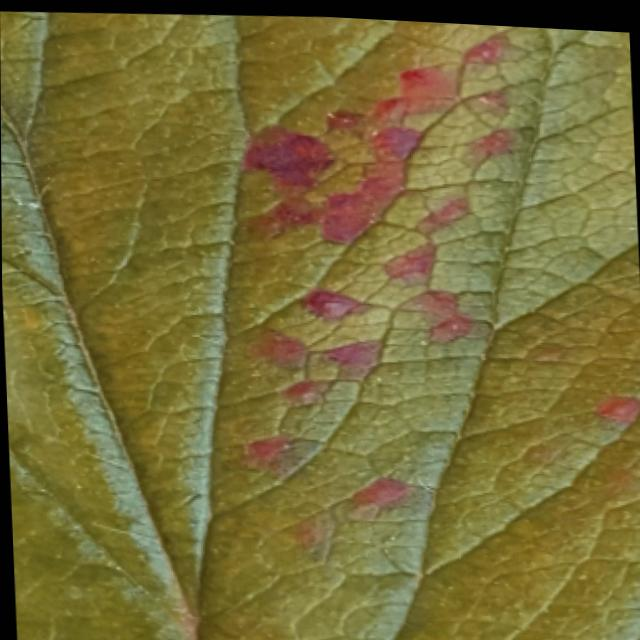Angular Leafspot: (206, 22, 640, 579)
